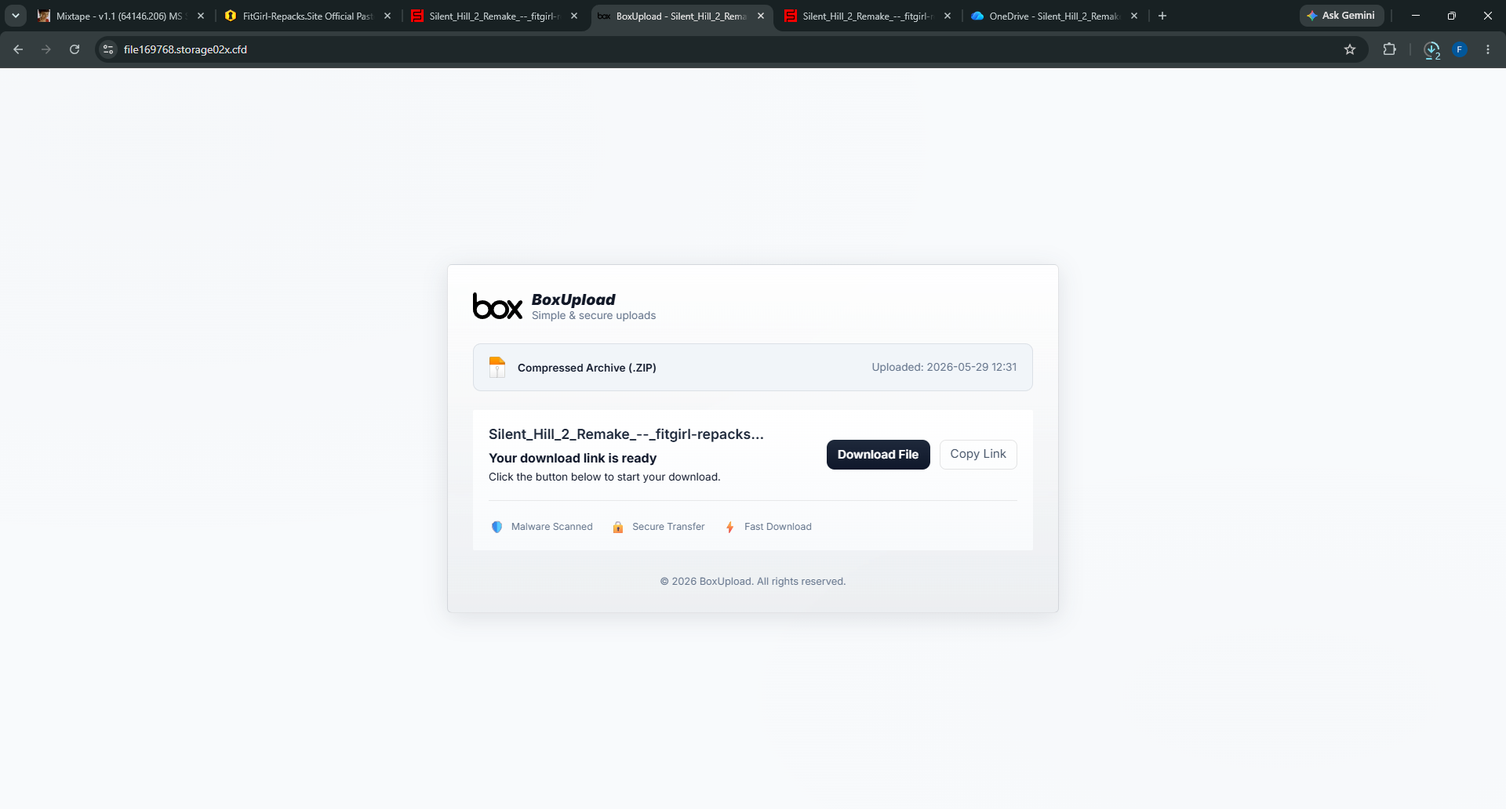fake_button: (821, 429, 940, 484)
